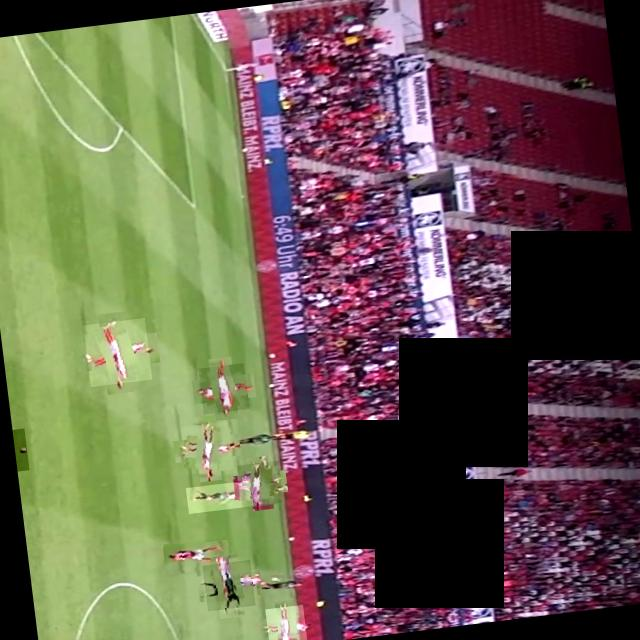ball: (268, 572, 284, 584)
soccer-player: (82, 318, 151, 387), (179, 422, 232, 474), (201, 559, 254, 611), (162, 537, 230, 577), (197, 363, 248, 414), (185, 480, 252, 514), (236, 460, 282, 507), (264, 604, 306, 640), (11, 428, 28, 471)
